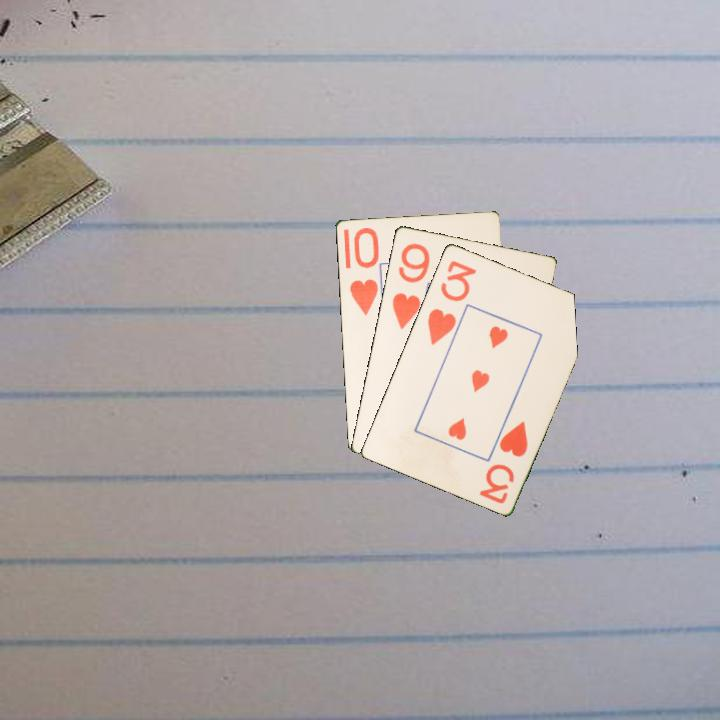10h: (346, 223, 381, 318)
3h: (475, 417, 531, 507), (424, 256, 479, 347)
9h: (388, 239, 432, 332)
